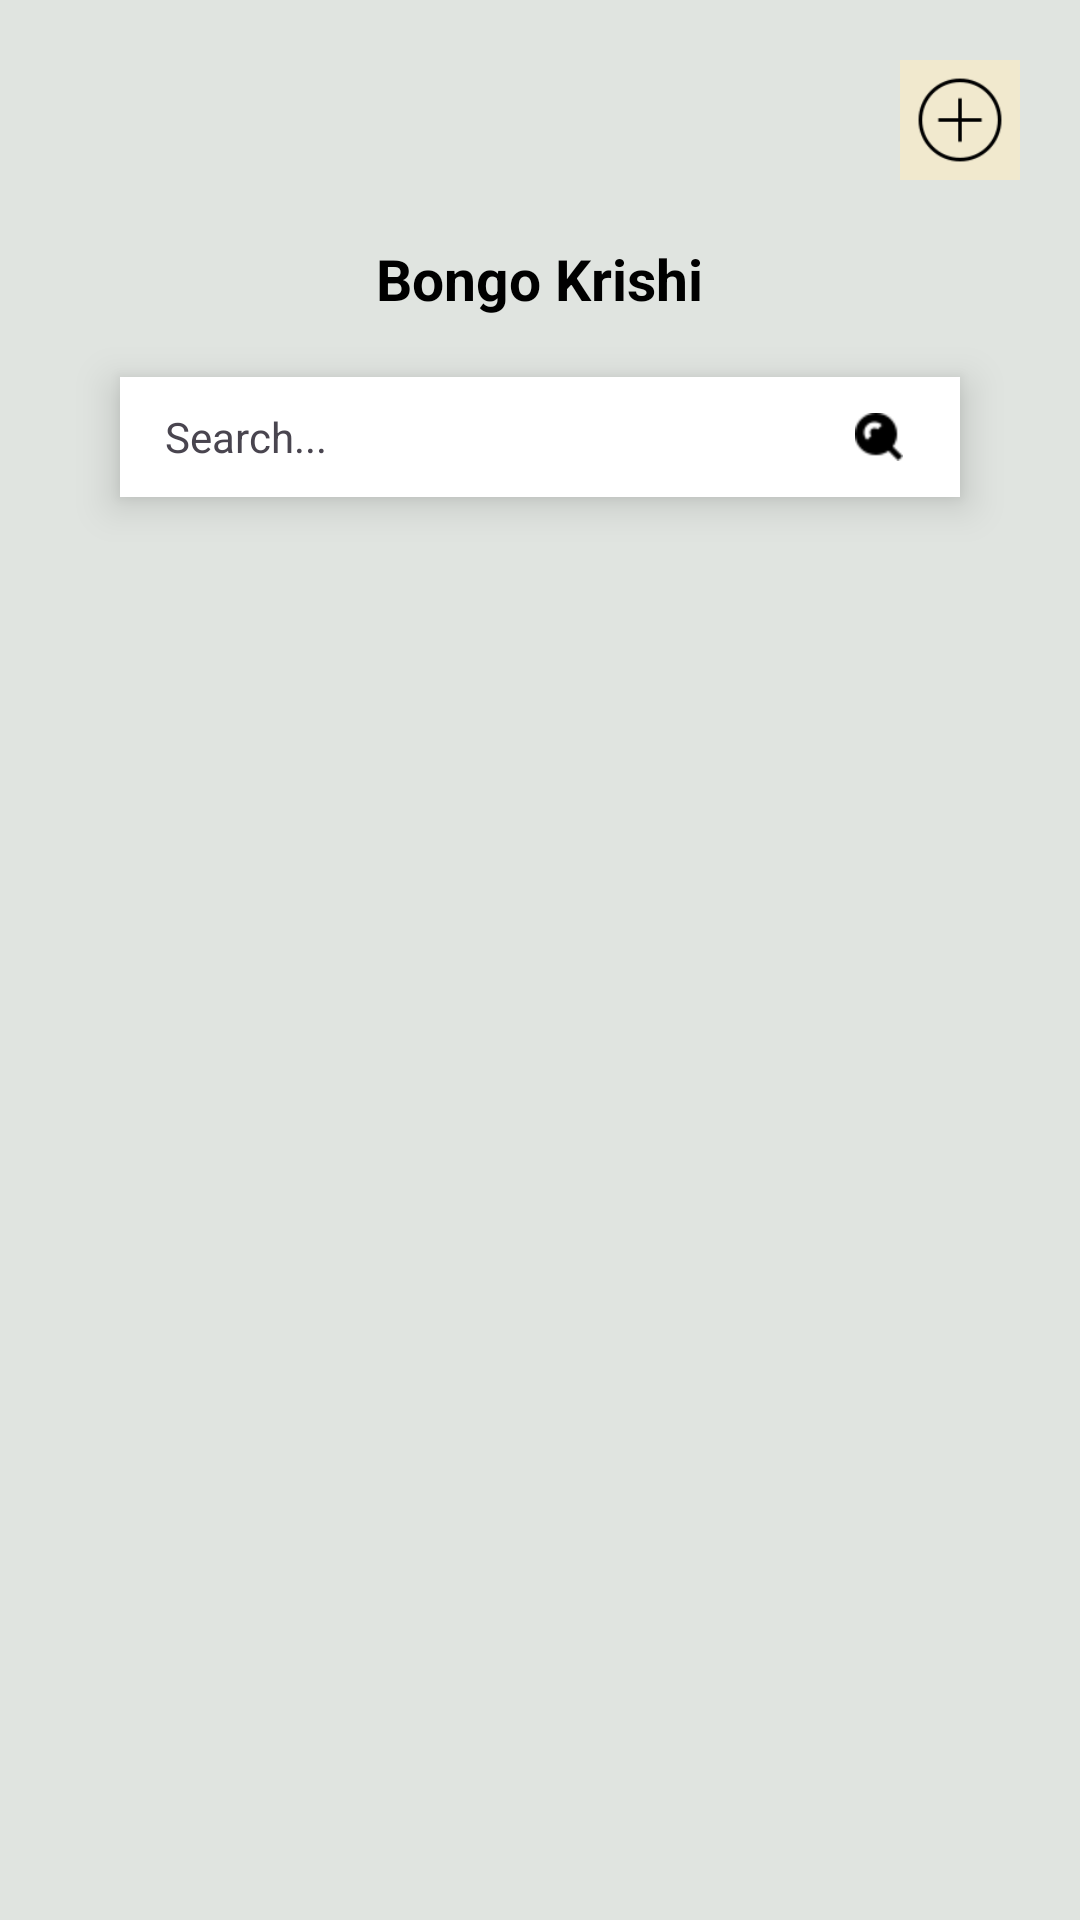

Named icons in this screenshot (1080×1920) and their bounding boxes, {"x1": x1, "y1": y1, "x2": x2, "y2": y2}:
iconplus: {"x1": 900, "y1": 60, "x2": 1020, "y2": 180}
search: {"x1": 855, "y1": 413, "x2": 903, "y2": 461}
